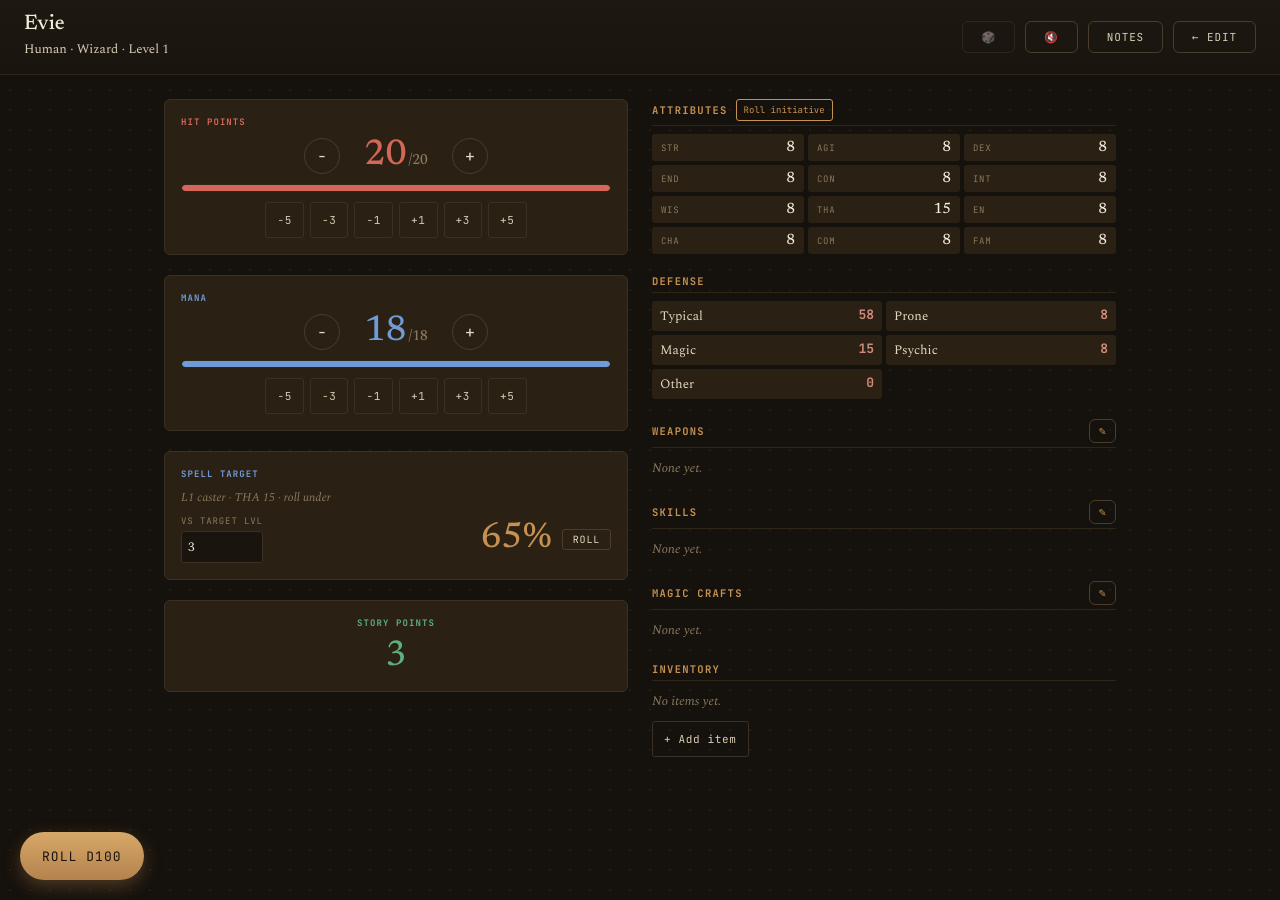
Test: PlayMode spell-target tile is zone-aware (#245) › red zone shows the raw base and says the attribute is not added (L1 vs L3 → 30%)
Select "3" in the dropdown named "Target level": (222, 547) x1=181 y1=531 x2=263 y2=563
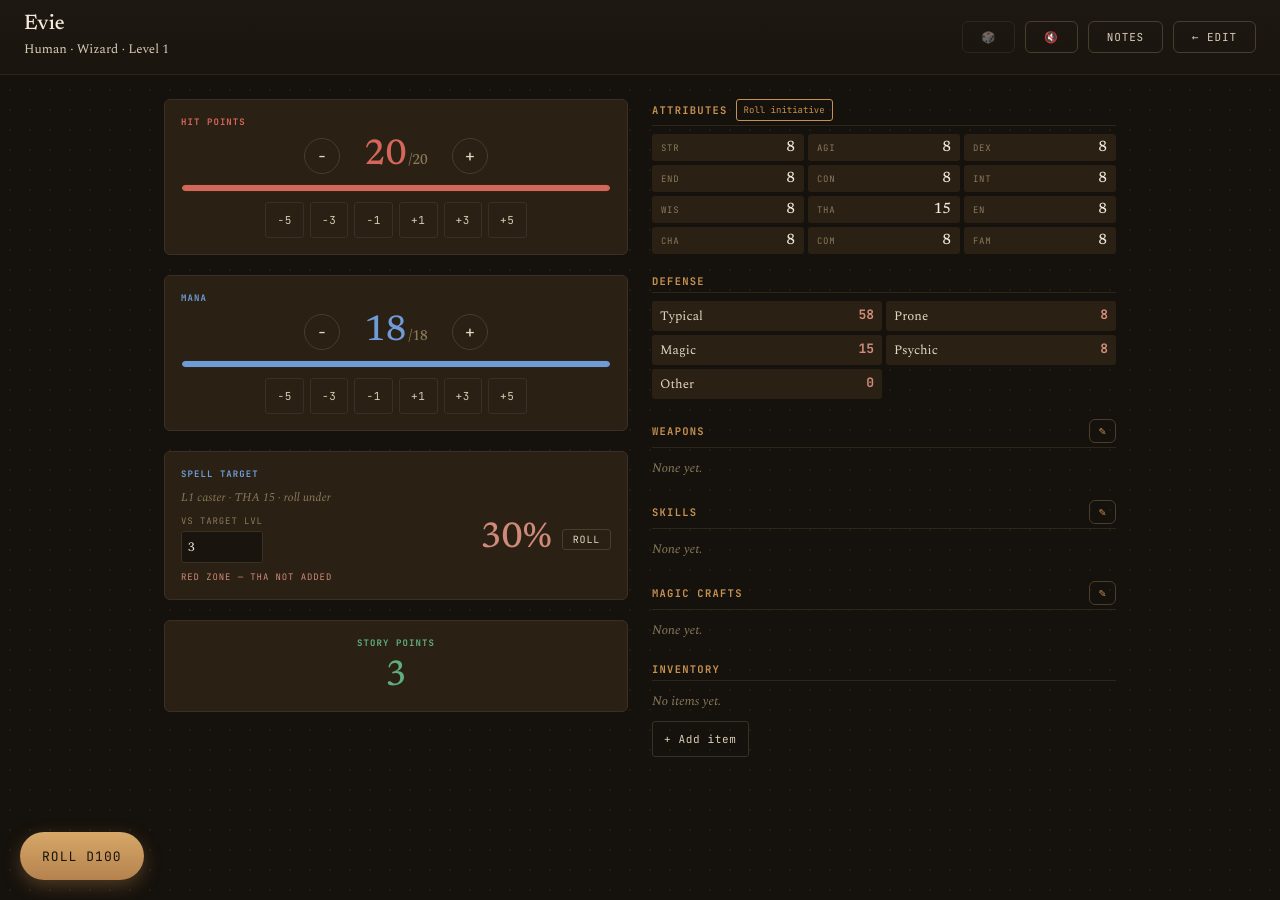
Check: the text "30%" is shown, box x1=480 y1=521 x2=552 y2=557
Check: the text "Red zone" is shown, box x1=181 y1=571 x2=250 y2=583
Check: the text "not added" is shown, box x1=269 y1=571 x2=332 y2=583
